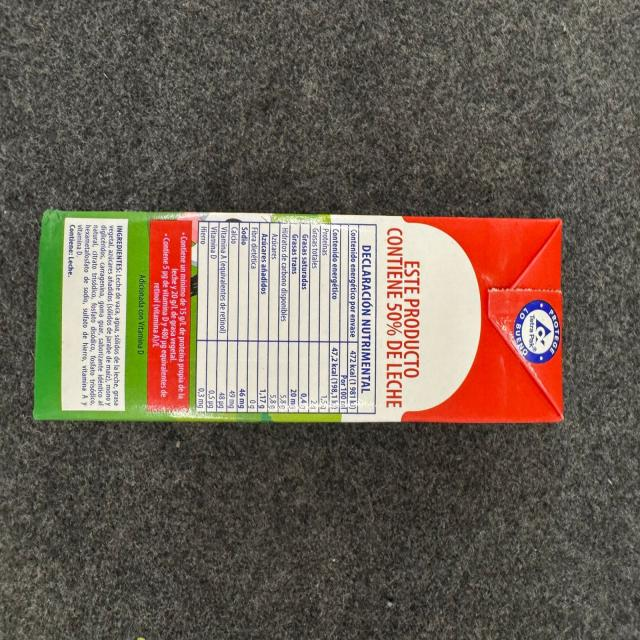PLC NUTRALAT FORTE 1LT: (30, 208, 568, 427)
